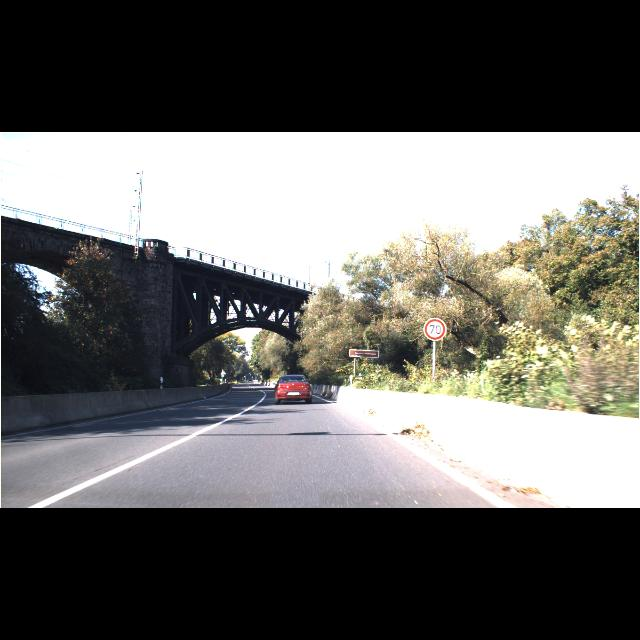prohibitory: (424, 317, 446, 341)
